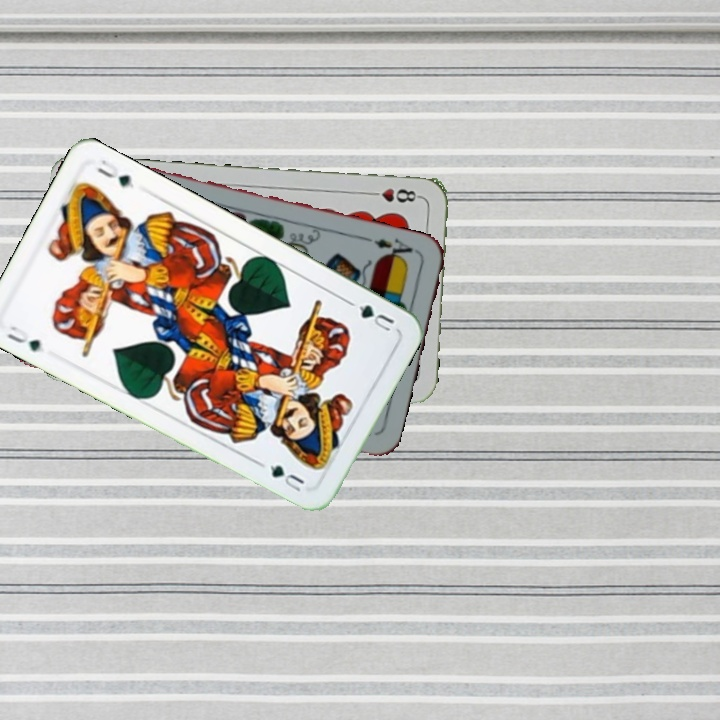EA: (370, 234, 422, 264)
GU: (354, 300, 397, 336), (2, 321, 44, 354)
H8: (364, 184, 423, 205)
